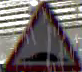Speed Breaker ahead: (2, 2, 81, 71)
